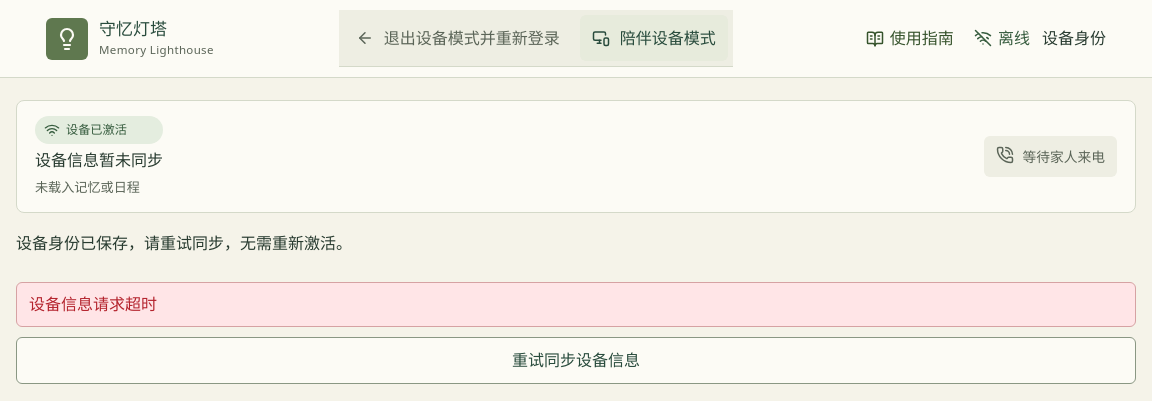
companion activation result ownership › keeps persisted identity on a context failure (restored=false) and explicitly retries
This screenshot has width=1152, height=401.
Expected: the message "设备信息请求超时" is shown, [16,282,1136,327]
Click the button "重试同步设备信息" at (576, 360), box [16,337,1136,384]
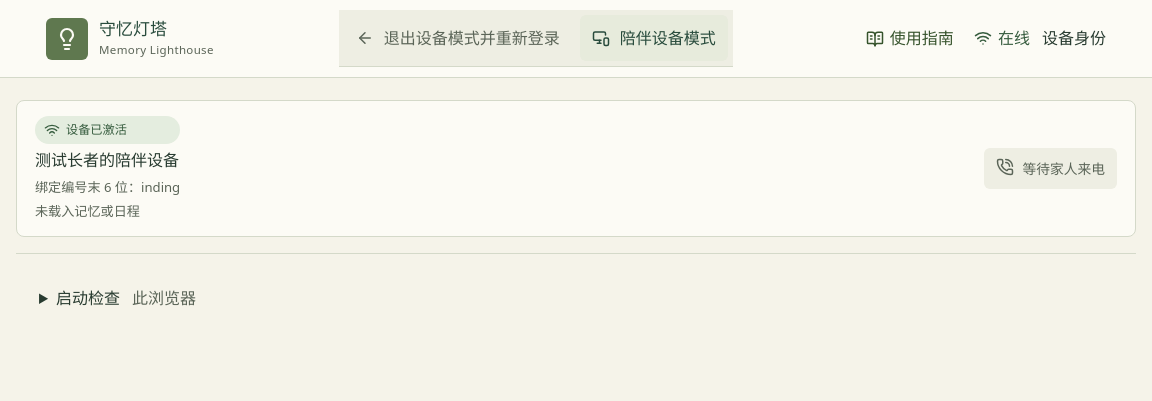
Now the text "测试长者的陪伴设备" is shown, box [35,148,180,173]
Now the message "设备信息请求超时" is gone
